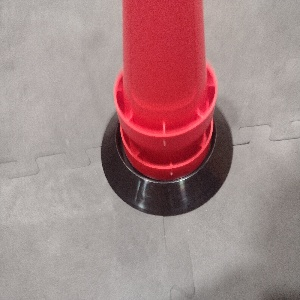Red_2: (113, 0, 217, 180)
